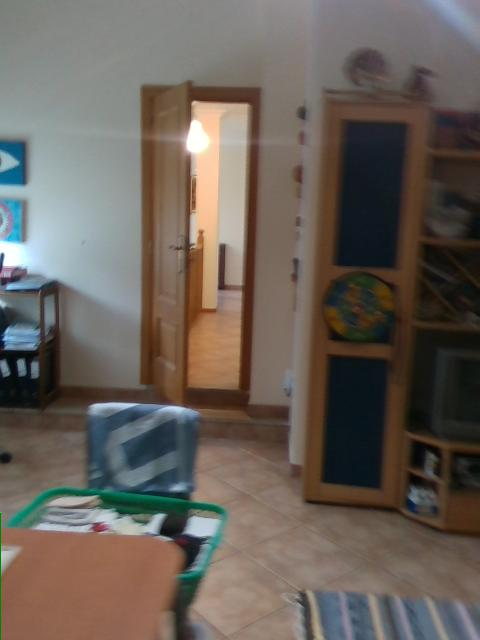semi_door: (134, 77, 265, 418)
